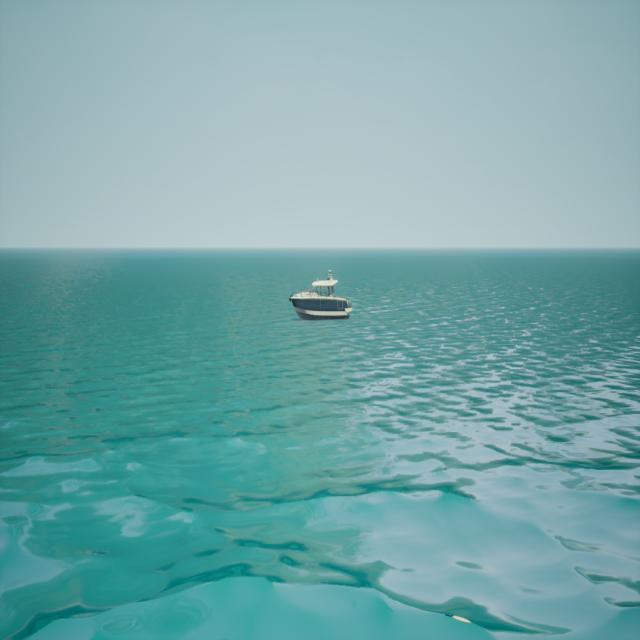ship: (288, 267, 352, 319)
